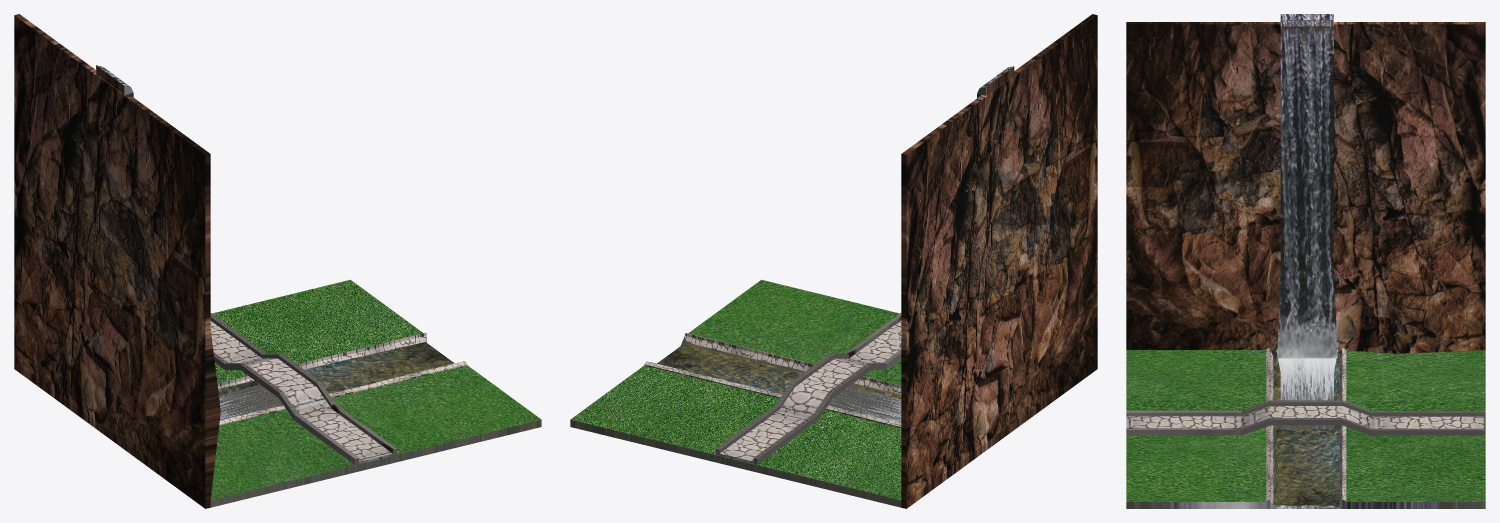
The model's file is Waterfallwall.fbx.
The picture shows the model from 3 angles, left to right: view 1: azimuth 30°, elevation 25°; view 2: azimuth 150°, elevation 25°; view 3: azimuth 270°, elevation 25°; orthographic projection. The views are drawn at different scales.
Visible parts, largest first — view 1: Plane.002, Plane, Plane.001; view 2: Plane.002, Plane, Plane.001; view 3: Plane.002, Plane, Plane.001.
Part boxes in pixels (x1,y1,x2,y2): Plane.002: (14,14,220,508); Plane: (210,279,541,507); Plane.001: (210,313,396,464); Plane.002: (901,14,1097,508); Plane: (570,279,901,507); Plane.001: (715,313,901,464); Plane.002: (1126,14,1485,358); Plane: (1126,347,1485,508); Plane.001: (1126,400,1484,435).
Bounding box in the file's own units: 1016 × 1047 × 1000.
